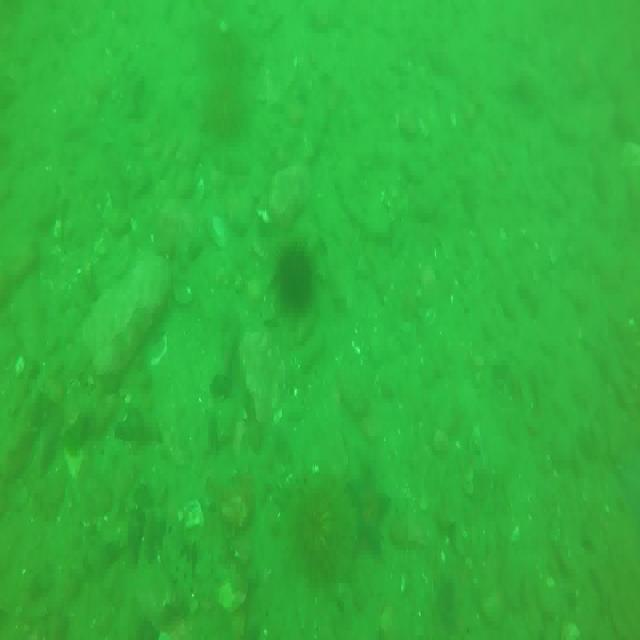echinus: (279, 474, 346, 590), (274, 245, 316, 306)
starfish: (346, 472, 387, 552)
